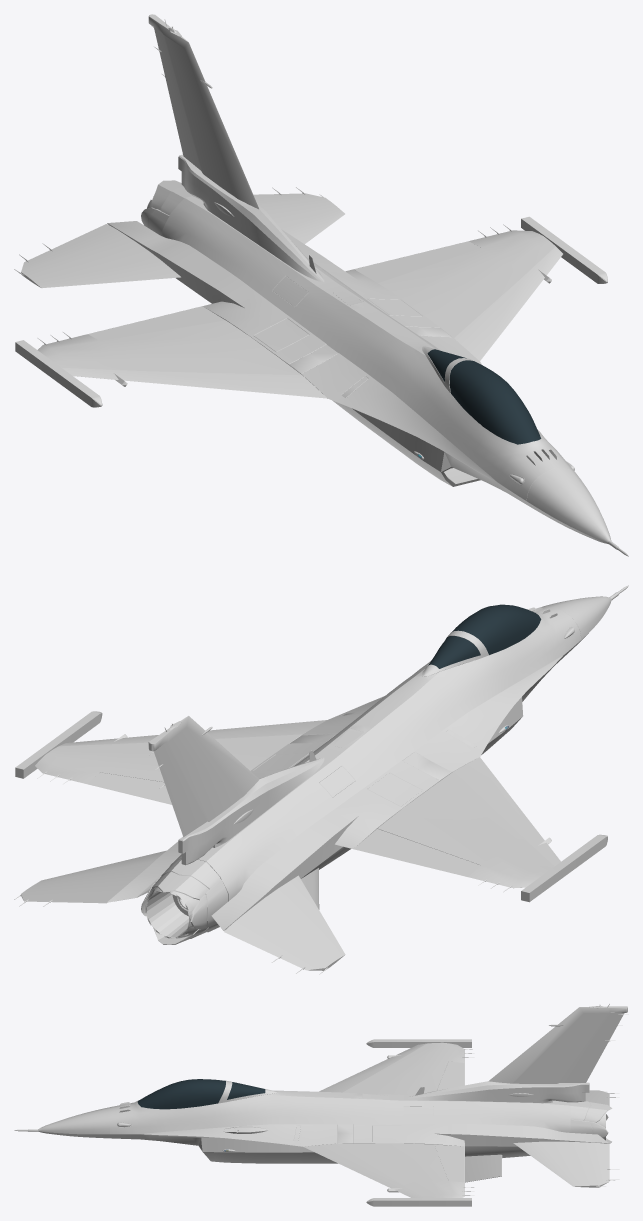
Rendered from F16_Stealth.fbx.
3 renders of one model, top to bottom at view 1: azimuth 30°, elevation 25°; view 2: azimuth 150°, elevation 25°; view 3: azimuth 270°, elevation 25°, orthographic. The views are drawn at different scales.
Parts seen in each view (by area): view 1: F16_Stealth; view 2: F16_Stealth; view 3: F16_Stealth.
Part boxes in pixels (x1,y1,x2,y2): F16_Stealth: (14,14,628,556); F16_Stealth: (14,585,628,974); F16_Stealth: (14,1004,628,1206).
Bounding box in the file's own units: 9.16 × 4.47 × 14.76.
